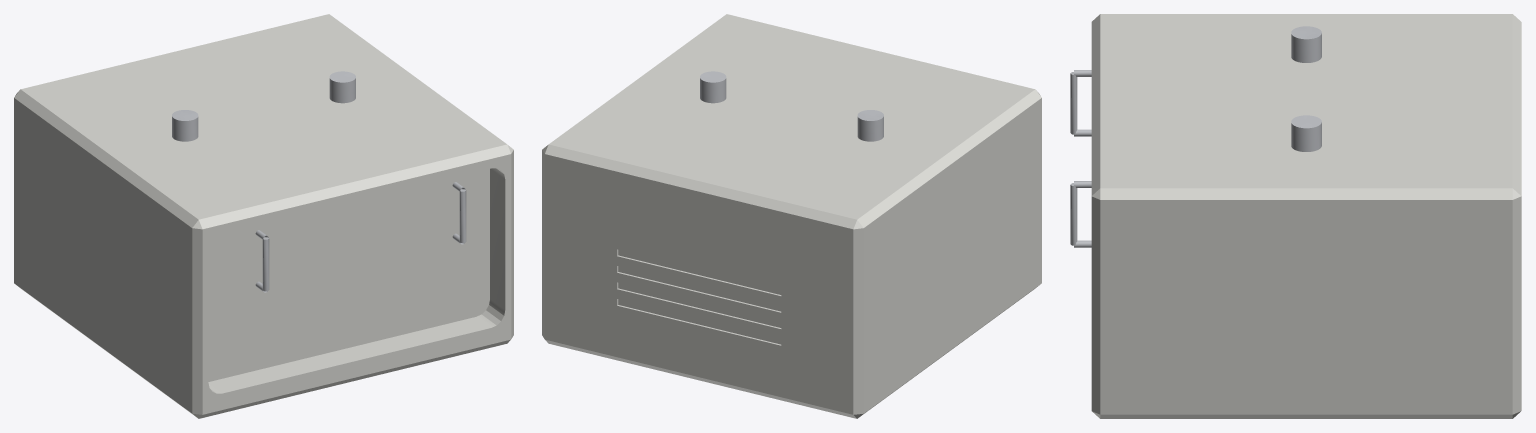
File: ax_power_10_fuel_cell_medium.glb
3 views of the same model, side by side, from view 1: azimuth 30°, elevation 25°; view 2: azimuth 150°, elevation 25°; view 3: azimuth 270°, elevation 25° (orthographic). The views are drawn at different scales.
Parts seen in each view (by area): view 1: slot_housing, connectors, handles; view 2: slot_housing, connectors; view 3: slot_housing, connectors, handles.
Boxes of the visible parts, box(x1,y1,x2,y2) form: slot_housing: box(14, 14, 513, 418); connectors: box(172, 71, 355, 141); handles: box(255, 182, 466, 292); slot_housing: box(542, 14, 1041, 418); connectors: box(700, 71, 883, 141); slot_housing: box(1091, 14, 1521, 418); connectors: box(1291, 26, 1321, 151); handles: box(1070, 70, 1091, 247).
Bounding box in the file's own units: 0.98 × 0.64 × 1.03.
2 materials, 1 textured.
